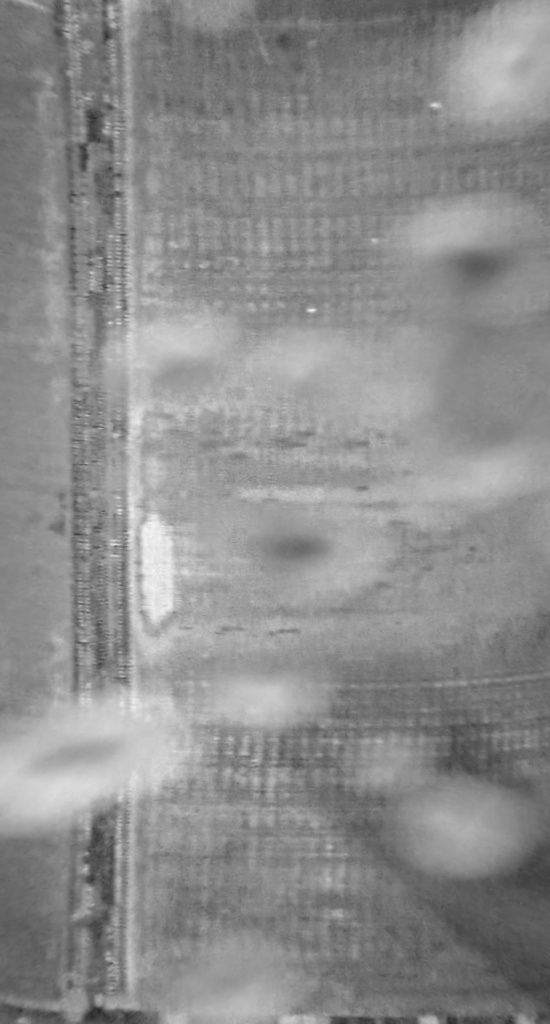splice: (47, 1, 144, 1024)
